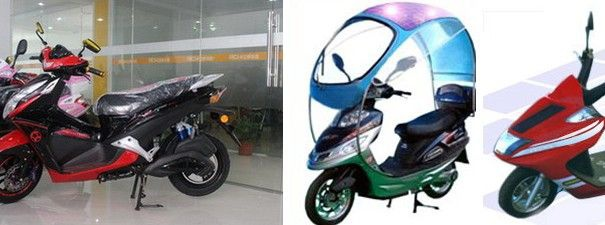non-vehicle: (4, 35, 242, 202), (300, 65, 481, 222), (489, 24, 601, 218)
